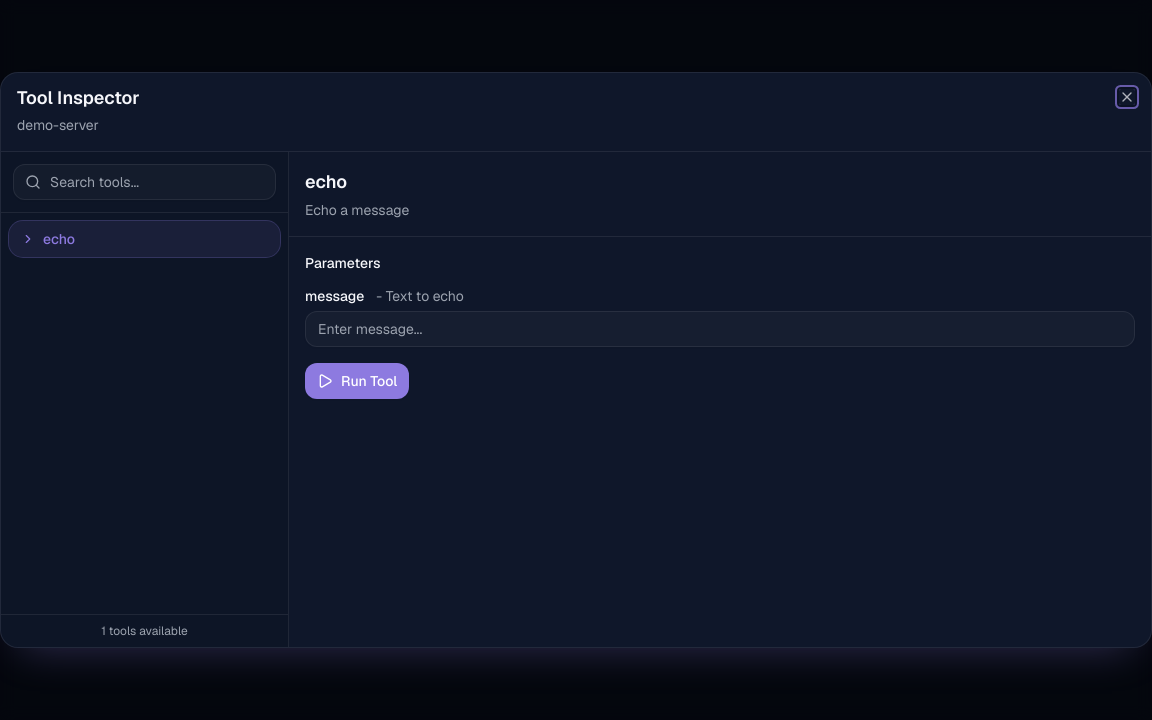
it: MCPInspector › loads tools and runs the selected tool
Expected: the heading "Tool Inspector" is shown, [17,86,140,109]
Expected: the text "Echo a message" is shown, [305,201,409,219]
In the field labelled "message - Text to echo": (720, 329) [305,311,1135,347], type "hello"
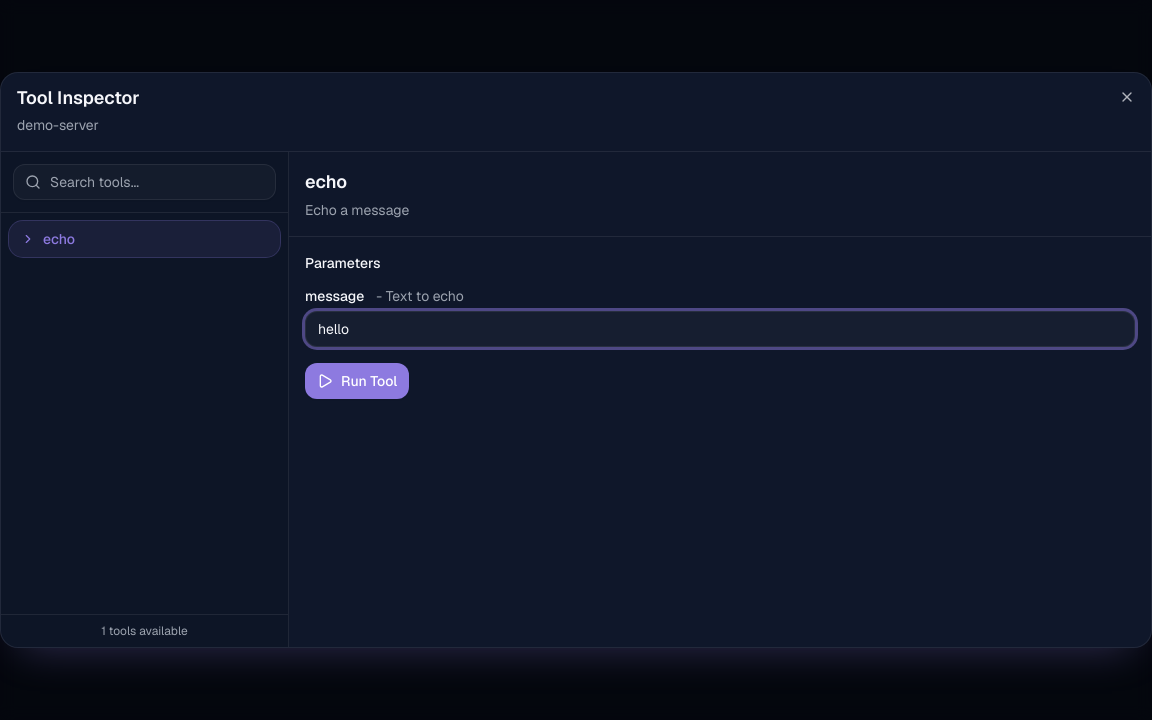
Click the button "Run Tool": (357, 381) [305,363,409,399]
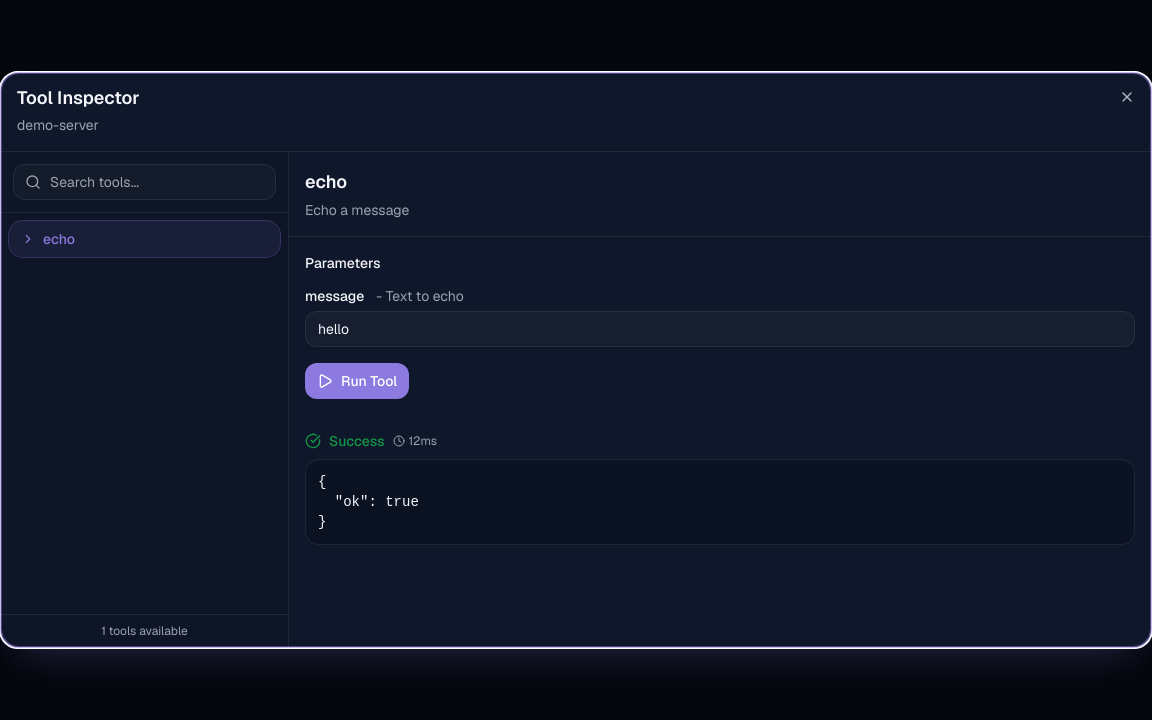
Expected: the text "Success" is shown, [329,431,384,451]
Expected: the text "{ \"ok\": true }" is shown, [305,459,1135,545]
